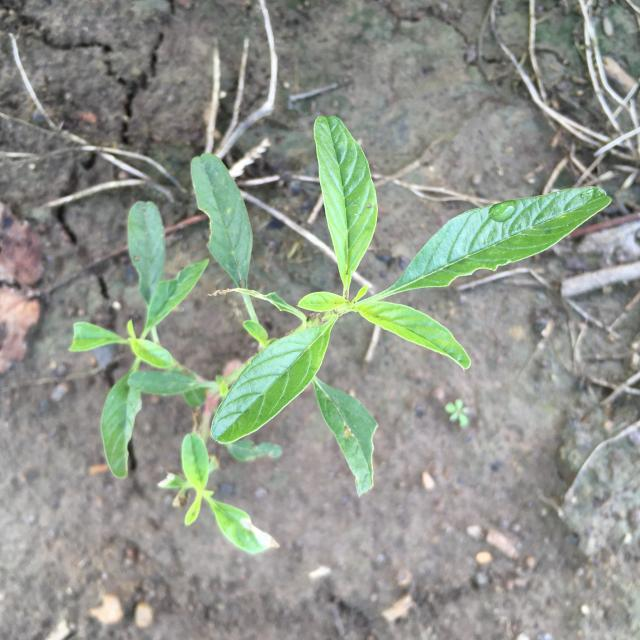Waterhemp: (68, 116, 612, 555)
